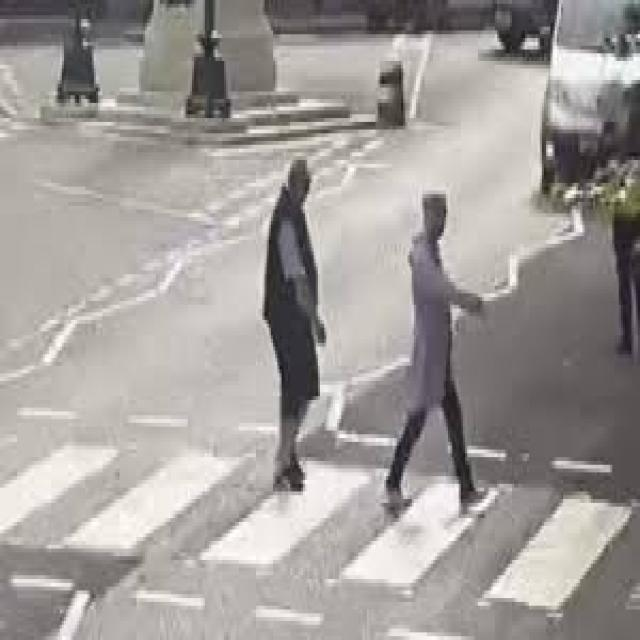Pedestrians: (382, 187, 484, 518), (260, 160, 329, 495)
